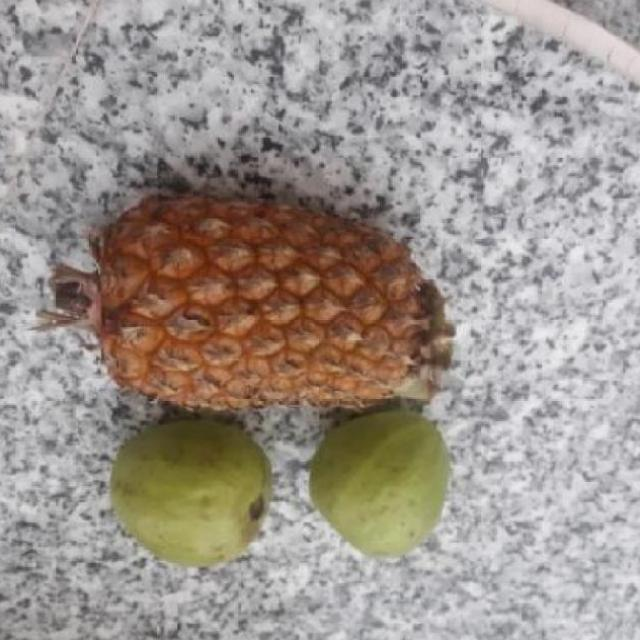guava: (112, 423, 278, 568), (311, 412, 455, 559)
pineapple: (57, 186, 460, 412)
